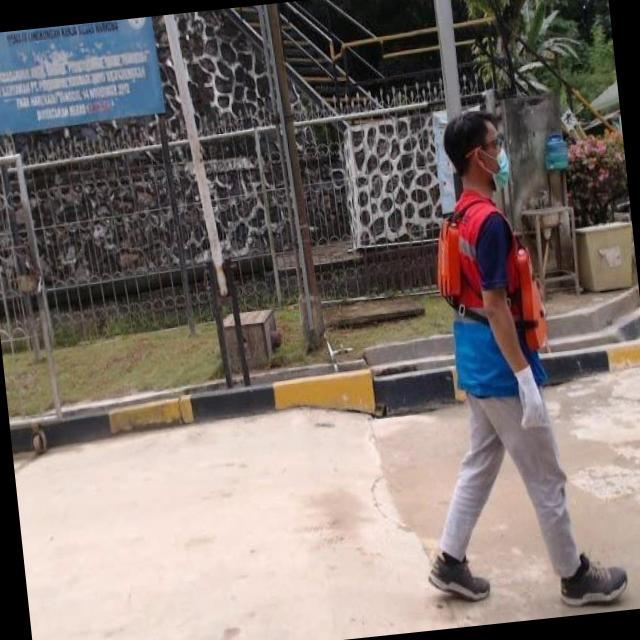safety_vest: (428, 184, 555, 405)
vehicle: (348, 84, 640, 633)
work_boots: (555, 548, 632, 610), (426, 544, 496, 610)
